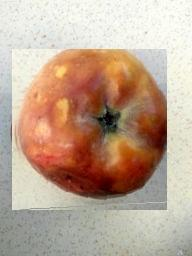Apple Rotten: (13, 50, 168, 211)
